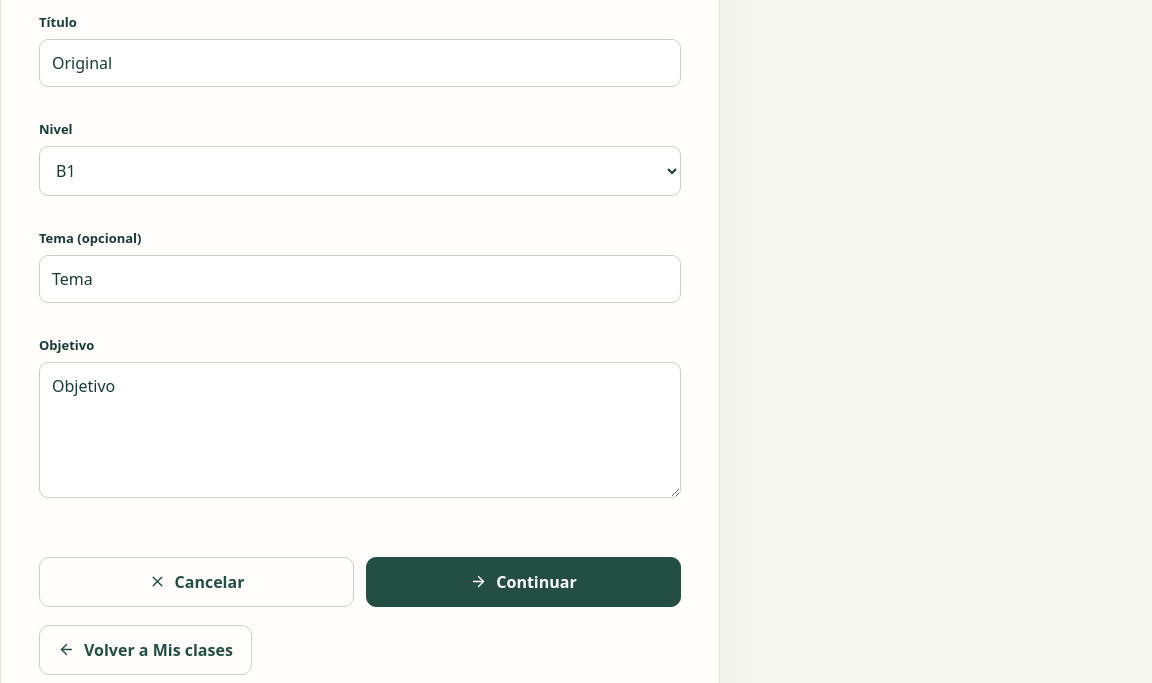
Test: keeps a trashed assigned student in the selection without a removal action
This screenshot has width=1152, height=683.
(page scrolled)
Check: the field labelled "Título" is shown, box [39, 39, 681, 87]
Click the button "Continuar": [524, 582] box [366, 557, 681, 607]
(page scrolled)
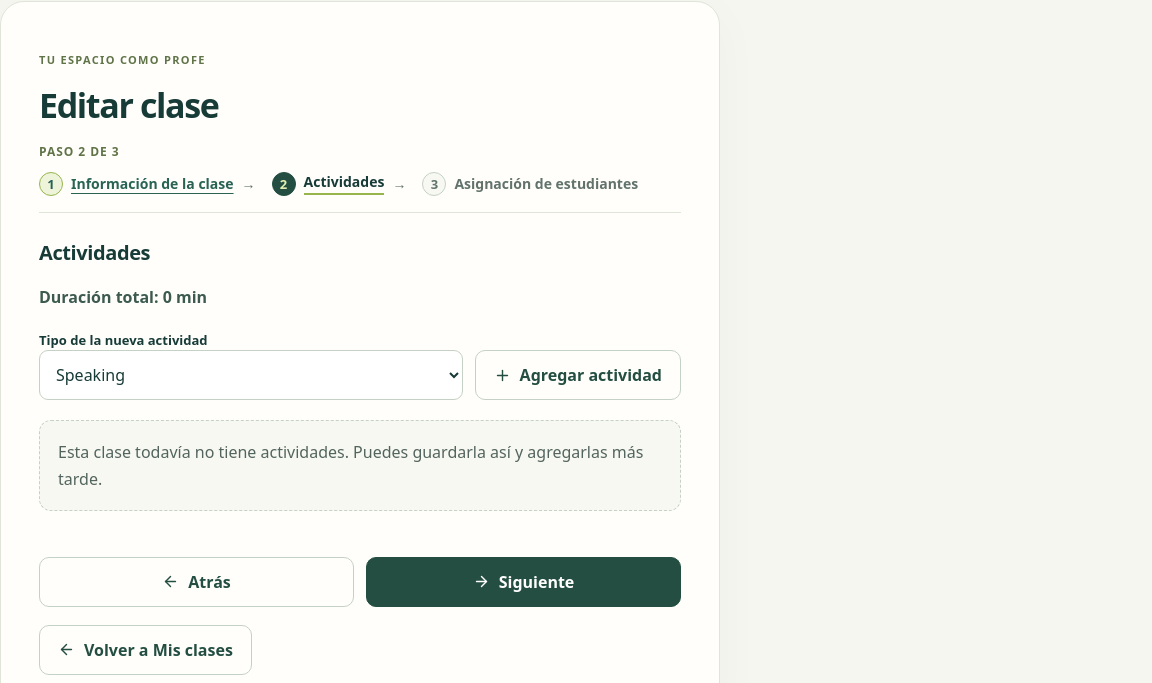
Click the button "Siguiente": [524, 582] box [366, 557, 681, 607]
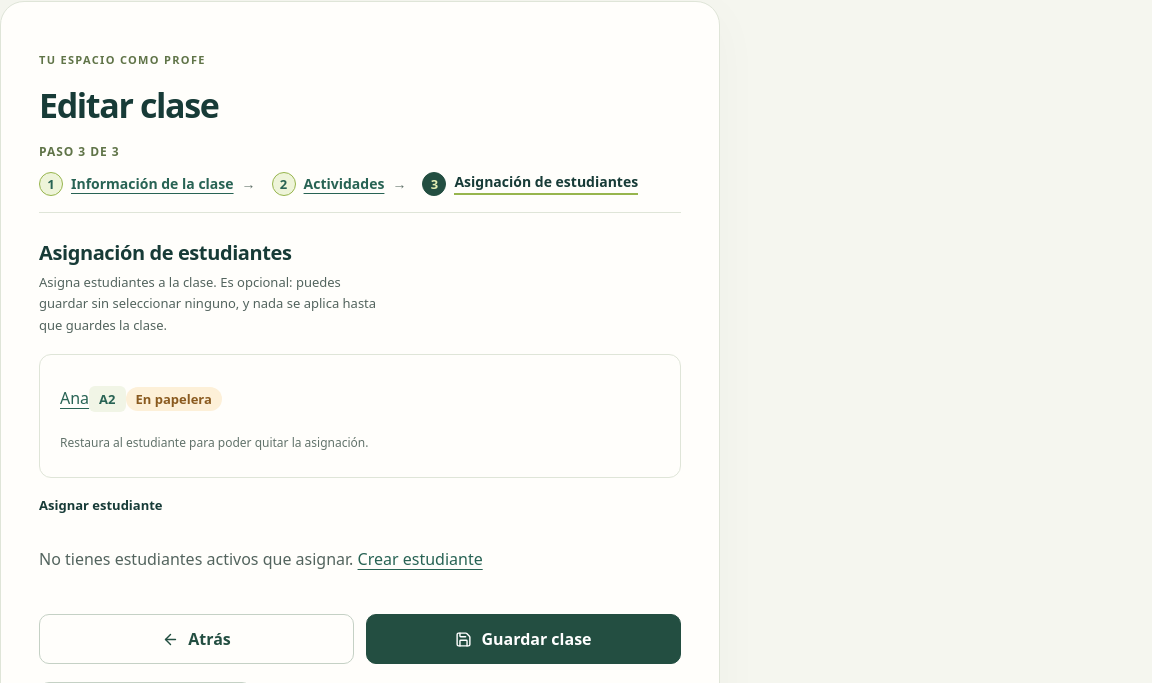
Check: the text with test id "trash-mark" reads "En papelera", box [136, 390, 212, 408]
